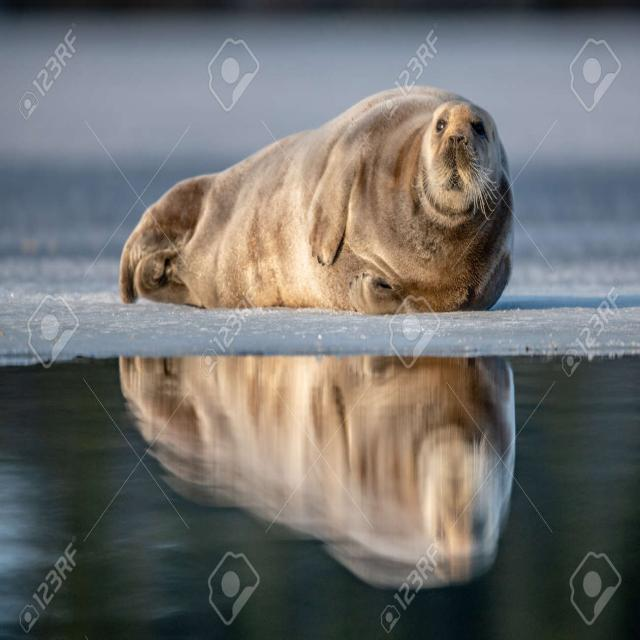WaterDog: (114, 88, 522, 309)
